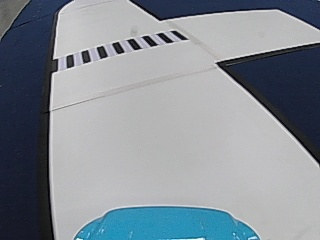CrossWalk: (57, 31, 184, 68)
